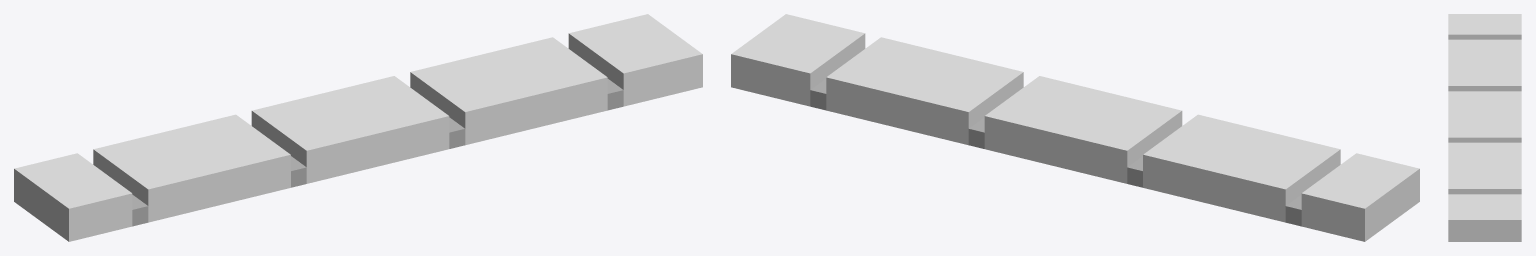
The model's file is ar_large_vereda.fbx.
3 views of the same model, side by side, from view 1: azimuth 30°, elevation 25°; view 2: azimuth 150°, elevation 25°; view 3: azimuth 270°, elevation 25° (orthographic). The views are drawn at different scales.
Visible parts, largest first — view 1: Matrix_10; view 2: Matrix_10; view 3: Matrix_10.
Part boxes in pixels (x1,y1,x2,y2): Matrix_10: [14, 14, 702, 241]; Matrix_10: [731, 14, 1419, 241]; Matrix_10: [1448, 14, 1521, 241].
Size of the model in its own units: 40 by 2 by 6.
Materials: 1 (1 with a texture image).
